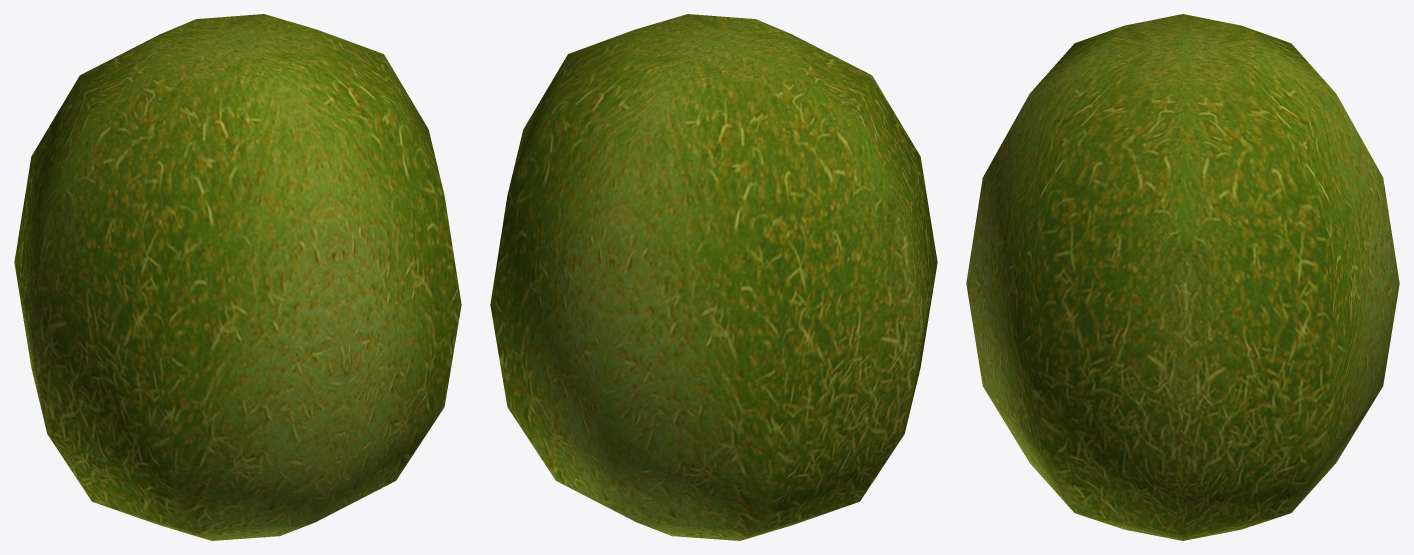
File: kiwi.fbx
The picture shows the model from 3 angles, left to right: view 1: azimuth 30°, elevation 25°; view 2: azimuth 150°, elevation 25°; view 3: azimuth 270°, elevation 25°; orthographic projection.
Visible parts, largest first — view 1: kiwi; view 2: kiwi; view 3: kiwi.
Part boxes in pixels (x1,y1,x2,y2): kiwi: (14,14,461,540); kiwi: (490,14,937,540); kiwi: (966,14,1399,540).
Bounding box in the file's own units: 1.49 × 1.64 × 1.38.
